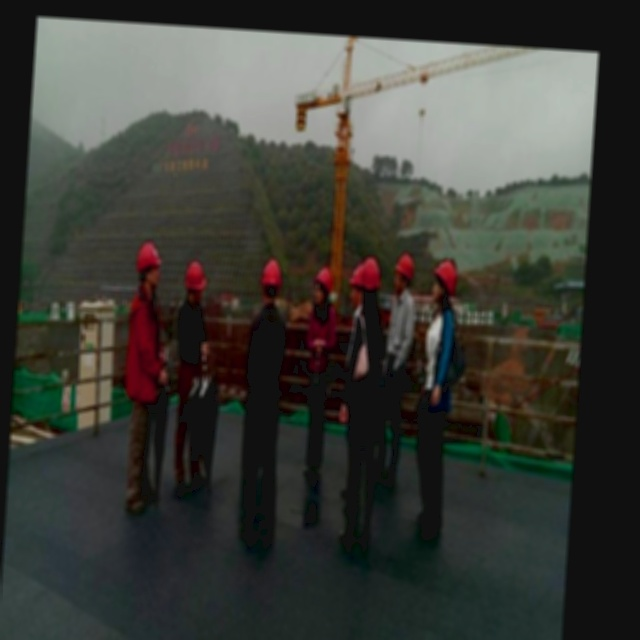Con_Casco: (136, 241, 162, 289), (261, 257, 285, 304), (185, 259, 207, 302), (312, 267, 334, 308)
